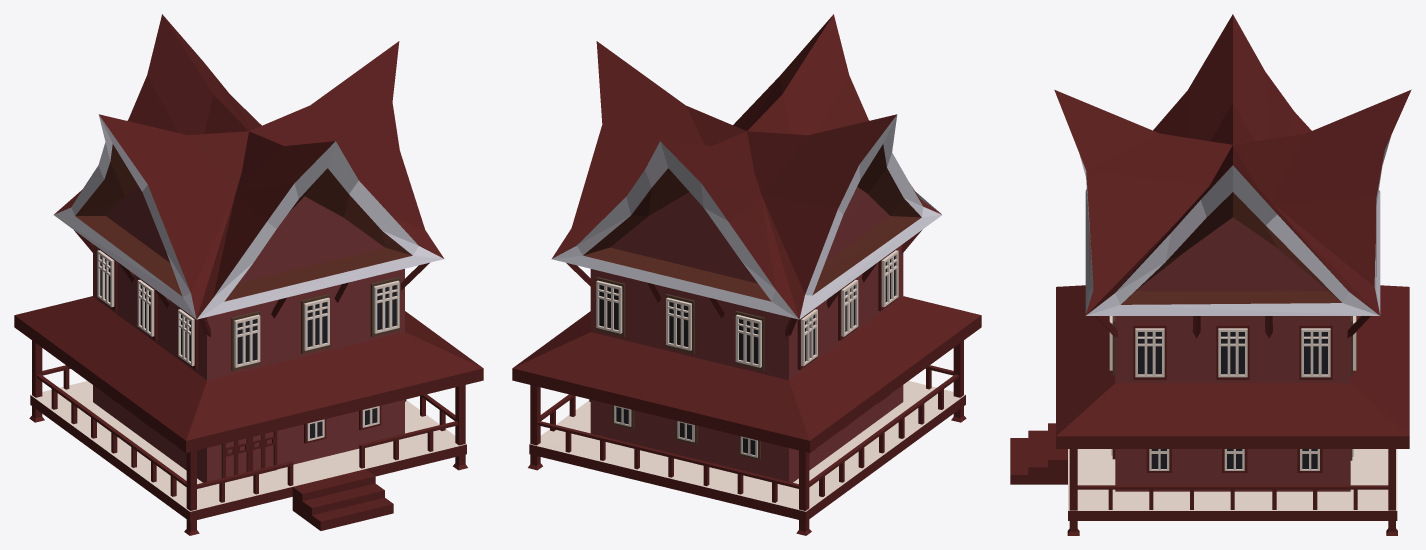
File: rumah_warga.fbx
3 renders of one model, left to right at view 1: azimuth 30°, elevation 25°; view 2: azimuth 150°, elevation 25°; view 3: azimuth 270°, elevation 25°, orthographic. The views are drawn at different scales.
Visible parts, largest first — view 1: Cube.023, Cube.016, Cube.028, Cube.027, Cube.018, Cube.026, Cube.022, Cube.017, Cube.020, Cube.019; view 2: Cube.023, Cube.016, Cube.028, Cube.018, Cube.022, Cube.026, Cube.025, Cube.033; view 3: Cube.023, Cube.016, Cube.018, Cube.027, Cube.026, Cube.021, Cube.022, Cube.028.
Boxes of the visible parts, <box> form: Cube.023: <box>54,14,444,319</box>; Cube.016: <box>14,244,483,521</box>; Cube.028: <box>231,277,399,370</box>; Cube.027: <box>292,469,393,530</box>; Cube.018: <box>97,248,198,369</box>; Cube.026: <box>37,374,455,496</box>; Cube.022: <box>29,340,467,535</box>; Cube.017: <box>221,431,277,482</box>; Cube.020: <box>197,421,458,502</box>; Cube.019: <box>304,405,381,443</box>; Cube.023: <box>551,14,941,319</box>; Cube.016: <box>512,244,981,521</box>; Cube.028: <box>596,277,764,370</box>; Cube.018: <box>797,248,898,370</box>; Cube.022: <box>528,340,966,535</box>; Cube.026: <box>540,374,958,496</box>; Cube.025: <box>537,421,798,502</box>; Cube.033: <box>612,405,760,460</box>; Cube.023: <box>1054,14,1411,315</box>; Cube.016: <box>1056,285,1409,520</box>; Cube.018: <box>1133,324,1332,379</box>; Cube.027: <box>1010,423,1067,484</box>; Cube.026: <box>1077,485,1388,509</box>; Cube.021: <box>1146,449,1322,472</box>; Cube.022: <box>1067,449,1397,535</box>; Cube.028: <box>1109,316,1356,375</box>.
Size of the model in its own units: 1820 by 2114 by 2043.
